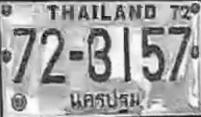1: (122, 27, 130, 82)
2: (40, 27, 65, 83)
3: (86, 27, 111, 81)
5: (141, 26, 164, 80)
7: (12, 26, 36, 84), (168, 25, 192, 81)
NPT: (66, 88, 143, 115)
